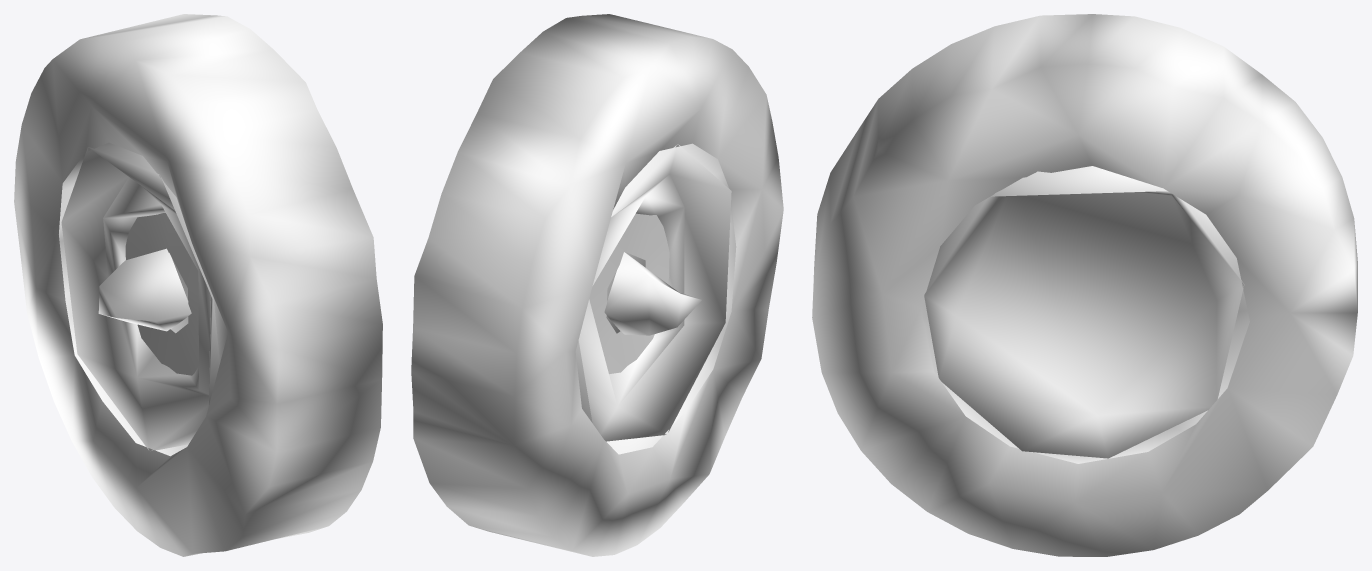
3 renders of one model, left to right at view 1: azimuth 30°, elevation 25°; view 2: azimuth 150°, elevation 25°; view 3: azimuth 270°, elevation 25°, orthographic. The views are drawn at different scales.
Bounding box in the file's own units: 0.2604 × 0.7346 × 0.7367.
1 material, 1 textured.
